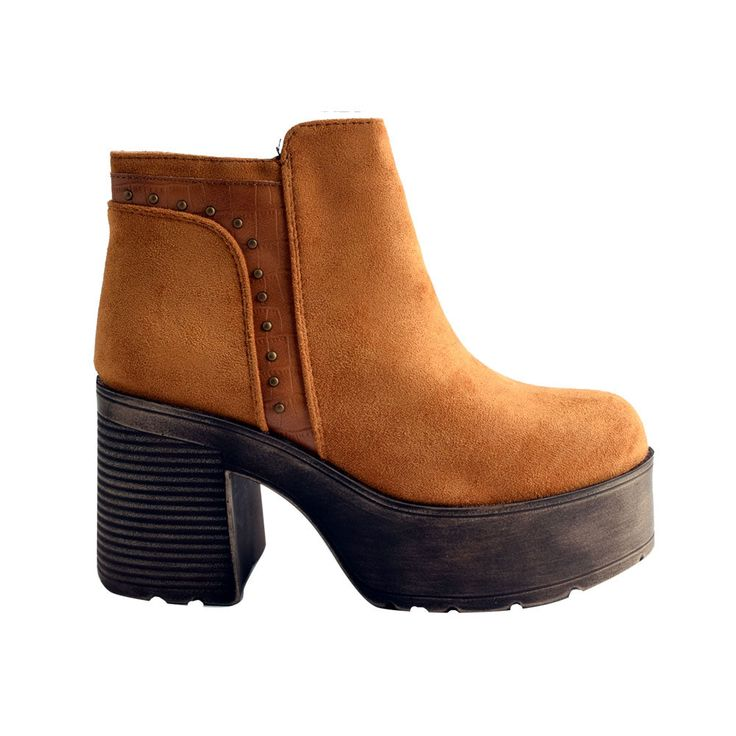gamuza: (94, 116, 647, 509)
